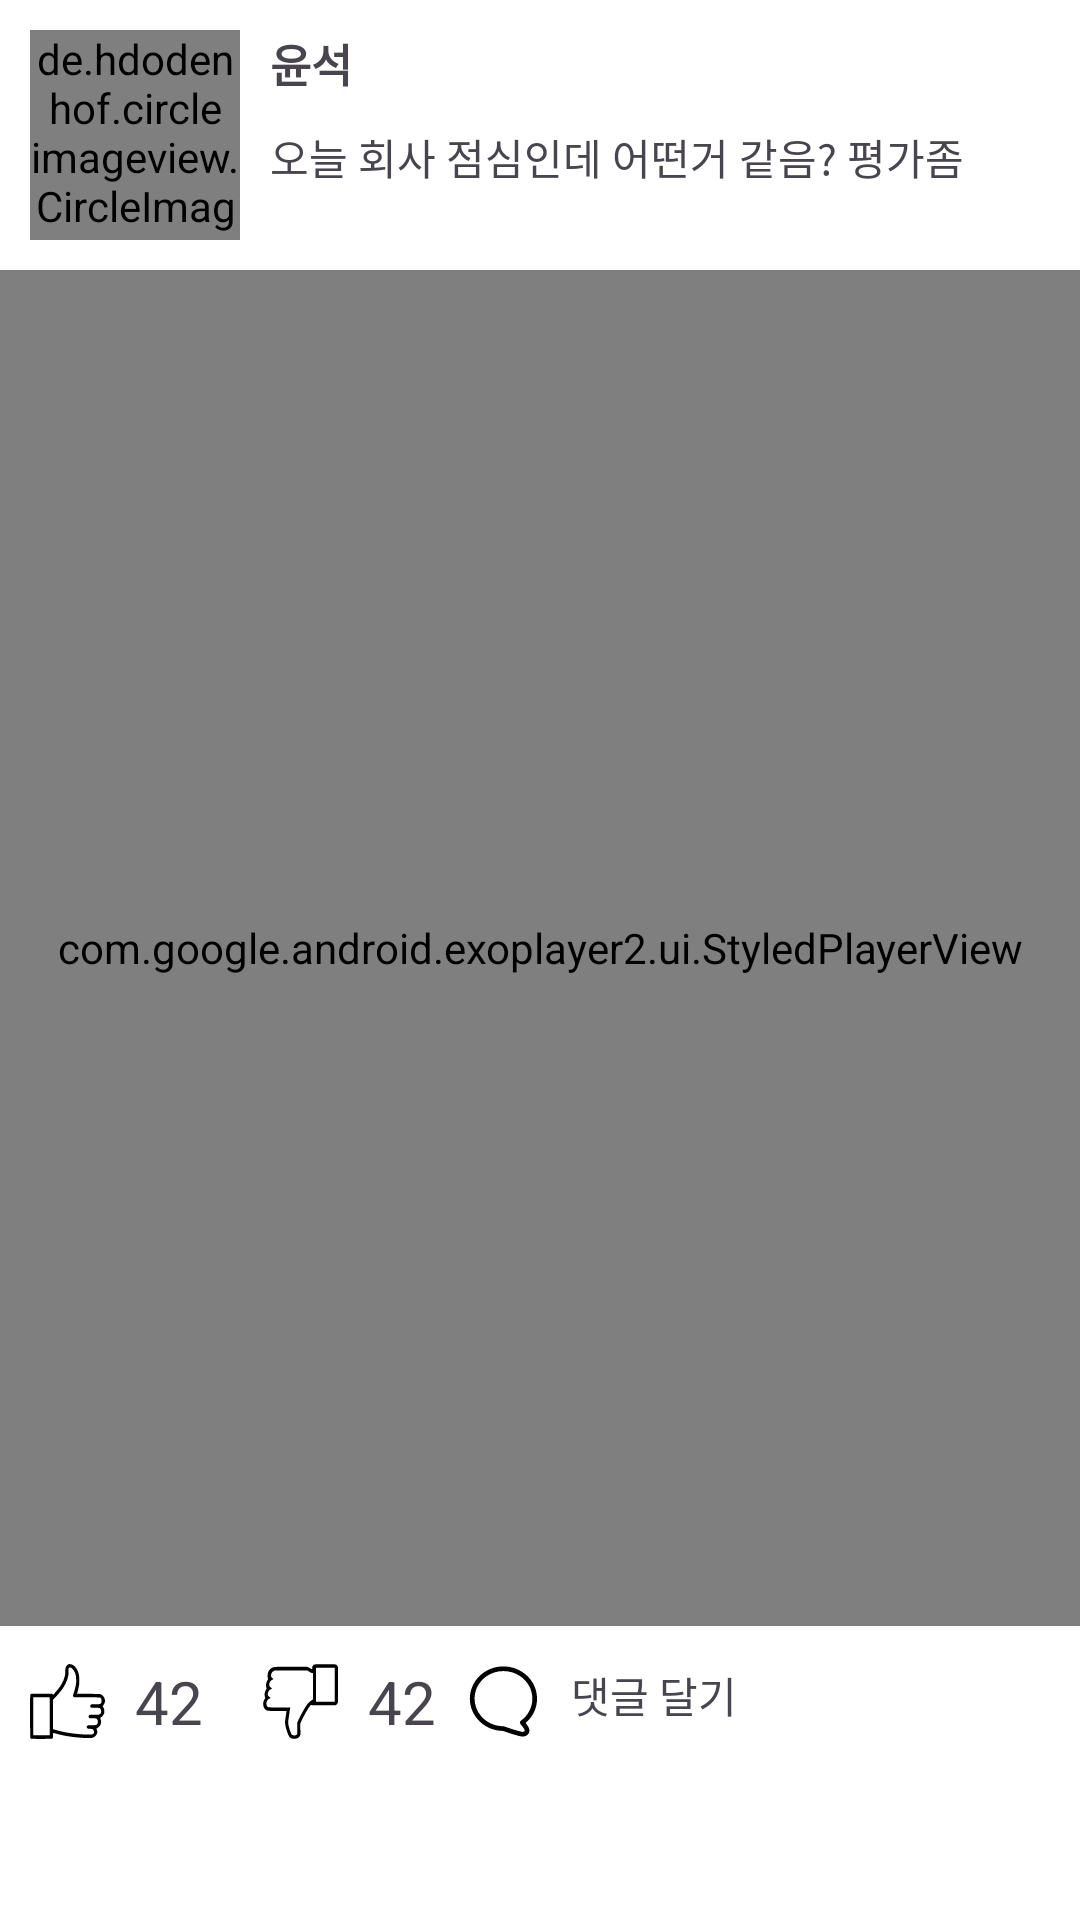

Named icons in this screenshot (1080x1920) and their bounding boxes, bbox=[x1, y1, x2, y2]:
comment: bbox=[469, 1666, 537, 1737]
dislike: bbox=[263, 1664, 338, 1739]
like: bbox=[30, 1664, 105, 1739]
